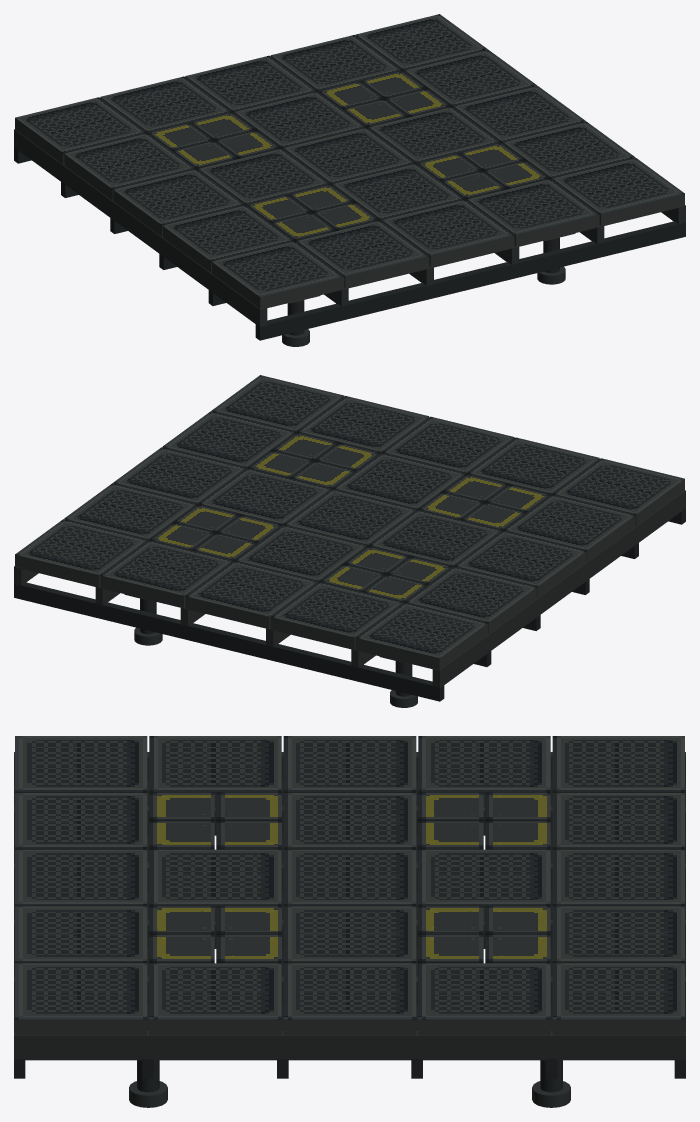
The model's file is CMU3DTopologyCargoRaisedStudyCloud.glb.
3 views of the same model, one above another, from view 1: azimuth 30°, elevation 25°; view 2: azimuth 150°, elevation 25°; view 3: azimuth 270°, elevation 25° (orthographic). The views are drawn at different scales.
Visible parts, largest first — view 1: transverse underside box beam 1, longitudinal underside box beam 1, deck panel 3.1 original recessed grate surface, deck panel 1.1 original recessed grate surface, deck panel 1.2 original recessed grate surface, deck panel 1.5 original recessed grate surface, deck panel 2.3 original recessed grate surface, deck panel 2.1 original recessed grate surface, deck panel 3.2 original recessed grate surface, deck panel 3.4 original recessed grate surface, deck panel 3.5 original recessed grate surface, deck panel 4.3 original recessed grate surface (+36 smaller); view 2: transverse underside box beam 6, longitudinal underside box beam 1, deck panel 3.1 original recessed grate surface, deck panel 4.3 original recessed grate surface, deck panel 5.1 original recessed grate surface, deck panel 5.2 original recessed grate surface, deck panel 5.5 original recessed grate surface, deck panel 1.1 original recessed grate surface, deck panel 1.2 original recessed grate surface, deck panel 1.5 original recessed grate surface, deck panel 2.3 original recessed grate surface, deck panel 2.5 original recessed grate surface (+36 smaller); view 3: longitudinal underside box beam 6, deck panel 3.3 original recessed grate surface, deck panel 2.3 original recessed grate surface, deck panel 4.3 original recessed grate surface, deck panel 1.3 original recessed grate surface, deck panel 5.3 original recessed grate surface, deck panel 3.1 original recessed grate surface, deck panel 3.2 original recessed grate surface, deck panel 3.4 original recessed grate surface, deck panel 3.5 original recessed grate surface, deck panel 1.1 original recessed grate surface, deck panel 1.2 original recessed grate surface (+37 smaller).
Part boxes in pixels (bbox=[...]): transverse underside box beam 1: bbox=[255, 221, 685, 340]; longitudinal underside box beam 1: bbox=[14, 129, 267, 327]; deck panel 3.1 original recessed grate surface: bbox=[113, 169, 245, 225]; deck panel 1.1 original recessed grate surface: bbox=[15, 97, 147, 153]; deck panel 1.2 original recessed grate surface: bbox=[100, 76, 232, 132]; deck panel 1.5 original recessed grate surface: bbox=[355, 14, 488, 70]; deck panel 2.3 original recessed grate surface: bbox=[234, 91, 366, 147]; deck panel 2.1 original recessed grate surface: bbox=[64, 133, 196, 189]; deck panel 3.2 original recessed grate surface: bbox=[198, 148, 330, 204]; deck panel 3.4 original recessed grate surface: bbox=[369, 107, 501, 163]; deck panel 3.5 original recessed grate surface: bbox=[454, 86, 586, 142]; deck panel 4.3 original recessed grate surface: bbox=[333, 163, 465, 219]; transverse underside box beam 6: bbox=[14, 582, 444, 701]; longitudinal underside box beam 1: bbox=[432, 490, 685, 688]; deck panel 3.1 original recessed grate surface: bbox=[454, 530, 586, 586]; deck panel 4.3 original recessed grate surface: bbox=[333, 452, 465, 508]; deck panel 5.1 original recessed grate surface: bbox=[552, 458, 684, 514]; deck panel 5.2 original recessed grate surface: bbox=[467, 437, 599, 493]; deck panel 5.5 original recessed grate surface: bbox=[211, 375, 344, 431]; deck panel 1.1 original recessed grate surface: bbox=[356, 602, 487, 658]; deck panel 1.2 original recessed grate surface: bbox=[271, 581, 402, 637]; deck panel 1.5 original recessed grate surface: bbox=[15, 519, 147, 575]; deck panel 2.3 original recessed grate surface: bbox=[234, 524, 366, 580]; deck panel 2.5 original recessed grate surface: bbox=[64, 483, 196, 539]; longitudinal underside box beam 6: bbox=[14, 1031, 685, 1060]; deck panel 3.3 original recessed grate surface: bbox=[283, 849, 416, 906]; deck panel 2.3 original recessed grate surface: bbox=[418, 849, 550, 906]; deck panel 4.3 original recessed grate surface: bbox=[149, 849, 281, 906]; deck panel 1.3 original recessed grate surface: bbox=[552, 849, 684, 906]; deck panel 5.3 original recessed grate surface: bbox=[15, 849, 147, 906]; deck panel 3.1 original recessed grate surface: bbox=[283, 736, 416, 792]; deck panel 3.2 original recessed grate surface: bbox=[283, 793, 416, 849]; deck panel 3.4 original recessed grate surface: bbox=[283, 906, 416, 962]; deck panel 3.5 original recessed grate surface: bbox=[283, 963, 416, 1019]; deck panel 1.1 original recessed grate surface: bbox=[552, 736, 684, 792]; deck panel 1.2 original recessed grate surface: bbox=[552, 793, 684, 849].
Bounding box in the file's own units: 5 × 1.12 × 5.
15 materials, 9 textured.
